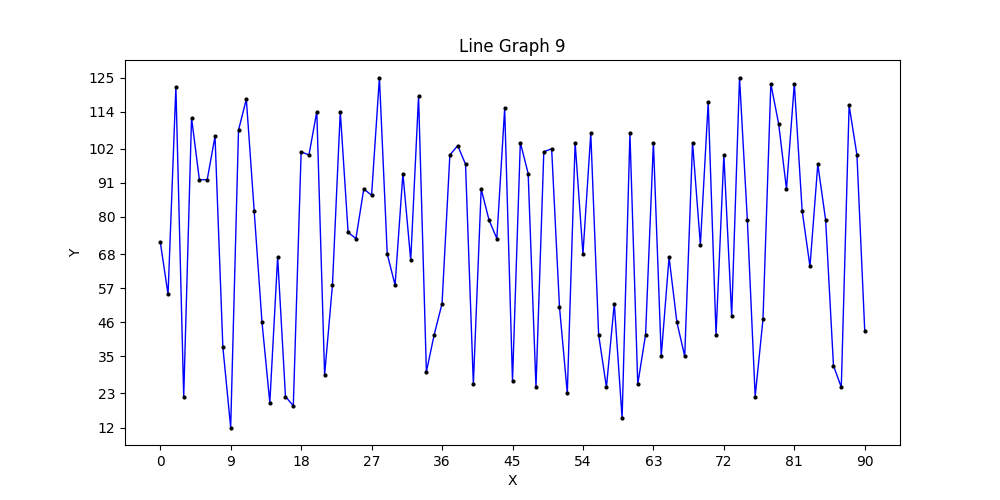cvs: (125, 60, 900, 445)
